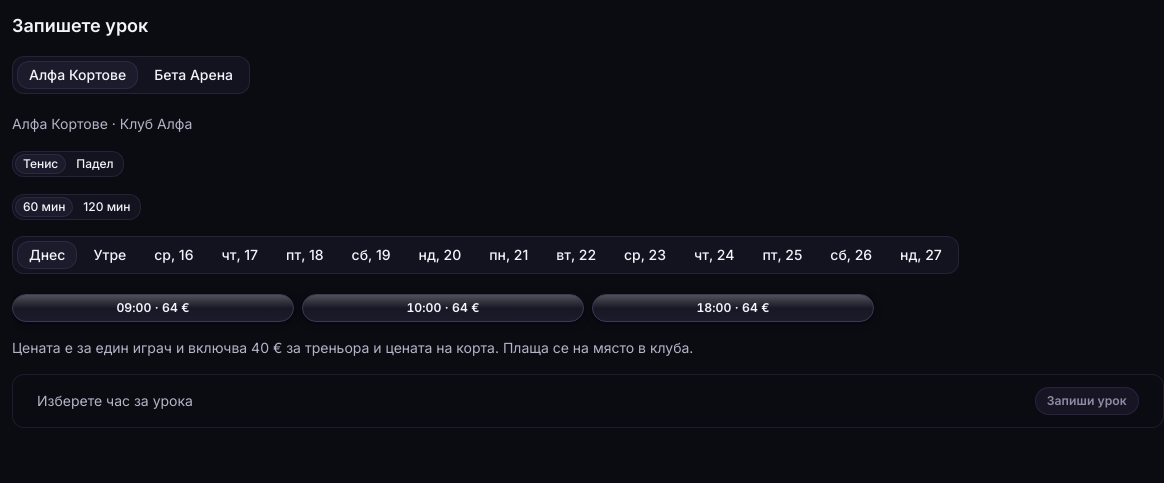
choosing a lesson › another venue keeps what it also offers and takes its own for the rest
Click the radio button labelled "Падел" at {"x": 95, "y": 164}, box [68,154,122,174]
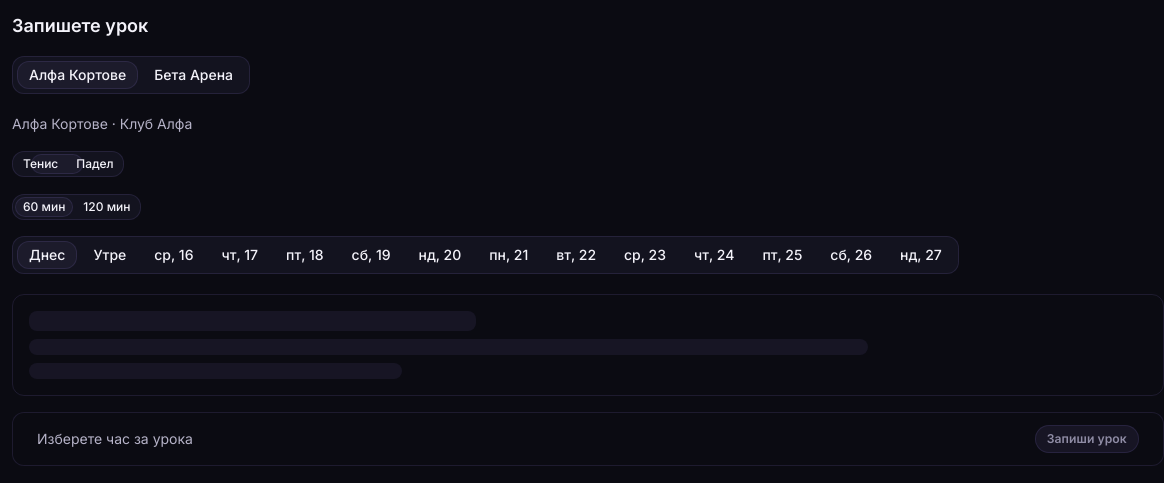
Click the radio button labelled "Бета Арена" at {"x": 194, "y": 75}, box [142,61,245,89]
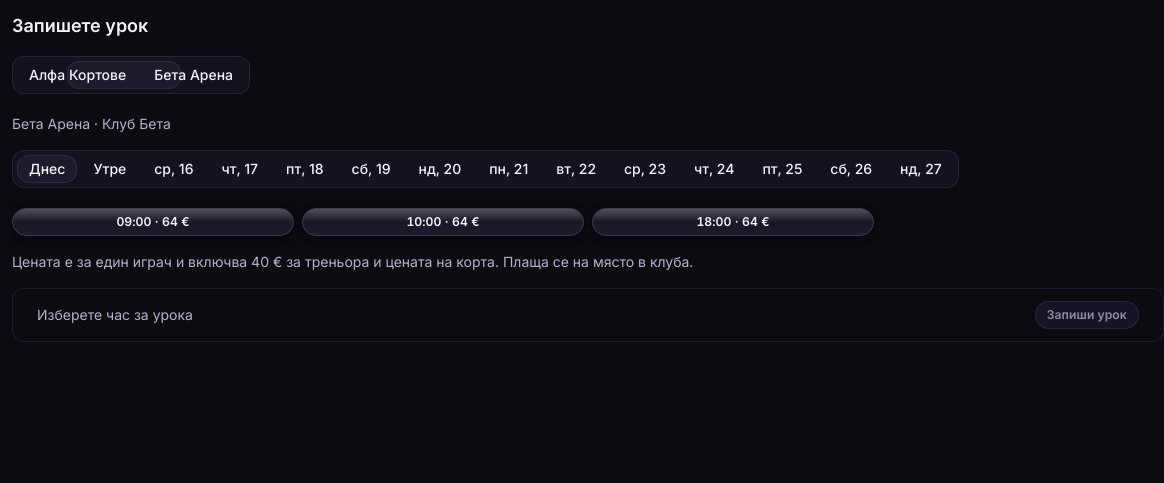
Expected: the text with test id "lesson-venue" reads "Бета Арена · Клуб Бета", [12,115,171,132]
